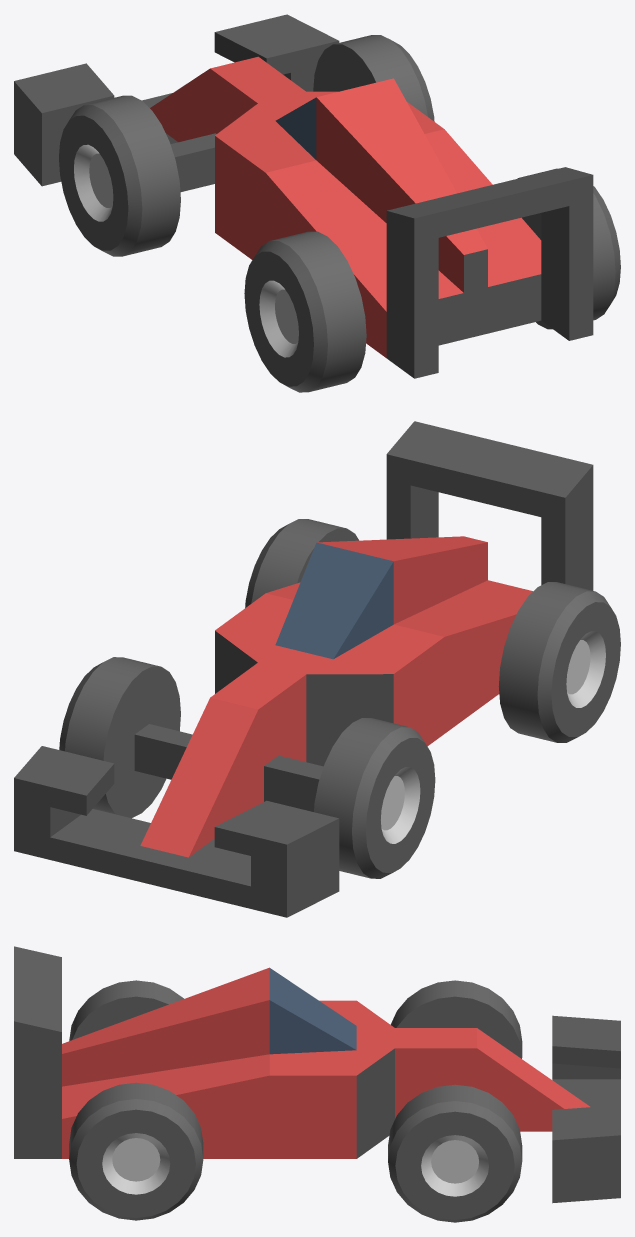
The model's file is carFormula.fbx.
The picture shows the model from 3 angles, top to bottom: view 1: azimuth 30°, elevation 25°; view 2: azimuth 150°, elevation 25°; view 3: azimuth 270°, elevation 25°; orthographic projection. The views are drawn at different scales.
Parts seen in each view (by area): view 1: body 2, wheelBackLeft 2, wheelFrontLeft 2, wheelFrontRight 2, wheelBackRight 2; view 2: body 2, wheelBackLeft 2, wheelFrontLeft 2, wheelFrontRight 2, wheelBackRight 2; view 3: body 2, wheelFrontRight 2, wheelBackRight 2, wheelFrontLeft 2, wheelBackLeft 2.
Boxes of the visible parts, x1,y1,x2,y2 form: body 2: [14, 14, 593, 378]; wheelBackLeft 2: [244, 231, 366, 392]; wheelFrontLeft 2: [59, 95, 180, 256]; wheelFrontRight 2: [313, 35, 434, 121]; wheelBackRight 2: [517, 168, 620, 329]; body 2: [14, 421, 593, 917]; wheelBackLeft 2: [498, 582, 620, 742]; wheelFrontLeft 2: [314, 718, 435, 878]; wheelFrontRight 2: [59, 657, 180, 818]; wheelBackRight 2: [245, 519, 358, 607]; body 2: [14, 946, 620, 1203]; wheelFrontRight 2: [388, 1084, 522, 1222]; wheelBackRight 2: [69, 1082, 203, 1220]; wheelFrontLeft 2: [390, 980, 522, 1058]; wheelBackLeft 2: [69, 980, 183, 1040].
Bounding box in the file's own units: 6.35 × 4.11 × 12.66.
